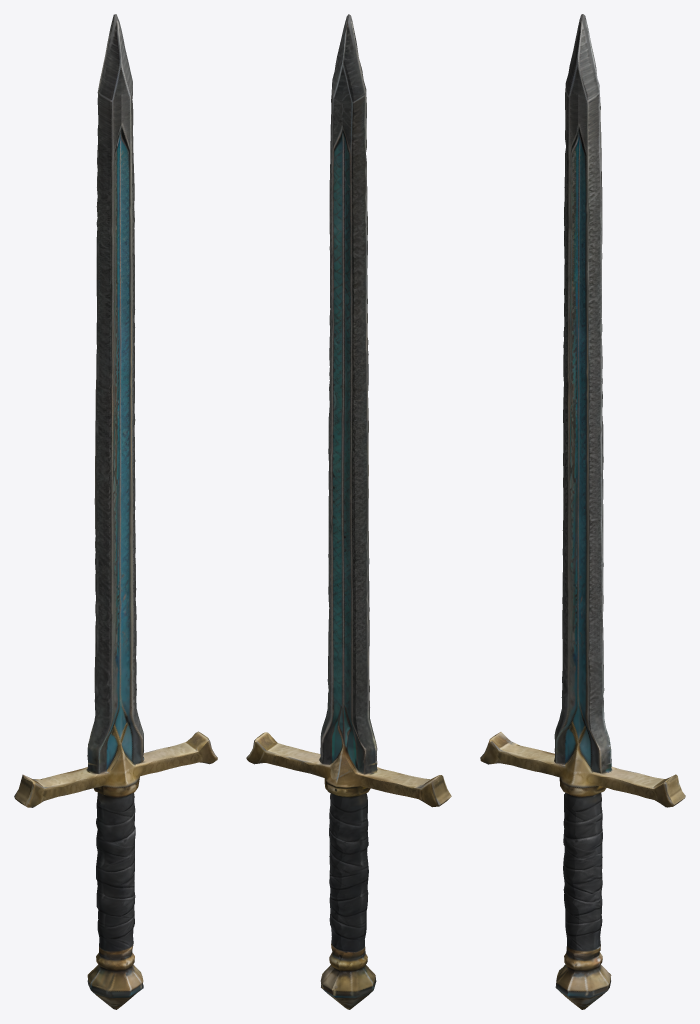
Rendered from rune_sword_web.glb.
3 renders of one model, left to right at view 1: azimuth 30°, elevation 25°; view 2: azimuth 150°, elevation 25°; view 3: azimuth 330°, elevation 25°, orthographic.
Parts seen in each view (by area): view 1: CanonicalGeometry; view 2: CanonicalGeometry; view 3: CanonicalGeometry.
Part boxes in pixels (bbox=[...]): CanonicalGeometry: bbox=[14, 14, 217, 1009]; CanonicalGeometry: bbox=[246, 14, 451, 1009]; CanonicalGeometry: bbox=[480, 14, 685, 1009].
Size of the model in its own units: 0.276 by 1.35 by 0.0752.
Materials: 1 (1 with a texture image).
